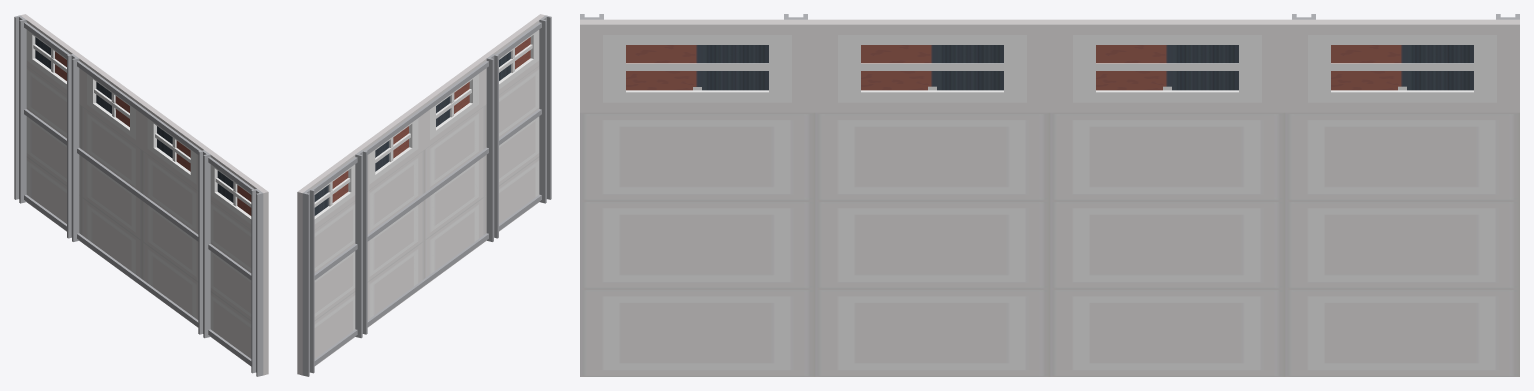
File: SM_Bld_GarageDoor_01.obj
The picture shows the model from 3 angles, left to right: view 1: azimuth 30°, elevation 25°; view 2: azimuth 150°, elevation 25°; view 3: azimuth 270°, elevation 25°; orthographic projection. The views are drawn at different scales.
Visible parts, largest first — view 1: SM_Bld_GarageDoor_01_Mat_SwatchOverlay_PolygonTown_01_Inst, SM_Bld_GarageDoor_01_Mat_PolygonTown_Glass; view 2: SM_Bld_GarageDoor_01_Mat_SwatchOverlay_PolygonTown_01_Inst, SM_Bld_GarageDoor_01_Mat_PolygonTown_Glass; view 3: SM_Bld_GarageDoor_01_Mat_SwatchOverlay_PolygonTown_01_Inst, SM_Bld_GarageDoor_01_Mat_PolygonTown_Glass.
Boxes of the visible parts, <box> form: SM_Bld_GarageDoor_01_Mat_SwatchOverlay_PolygonTown_01_Inst: <box>14,14,268,376</box>; SM_Bld_GarageDoor_01_Mat_PolygonTown_Glass: <box>35,37,251,215</box>; SM_Bld_GarageDoor_01_Mat_SwatchOverlay_PolygonTown_01_Inst: <box>297,14,551,376</box>; SM_Bld_GarageDoor_01_Mat_PolygonTown_Glass: <box>314,37,530,215</box>; SM_Bld_GarageDoor_01_Mat_SwatchOverlay_PolygonTown_01_Inst: <box>580,14,1519,376</box>; SM_Bld_GarageDoor_01_Mat_PolygonTown_Glass: <box>626,45,1473,90</box>.
Size of the model in its own units: 0.3884 by 6 by 14.5.
2 materials, 2 textured.
